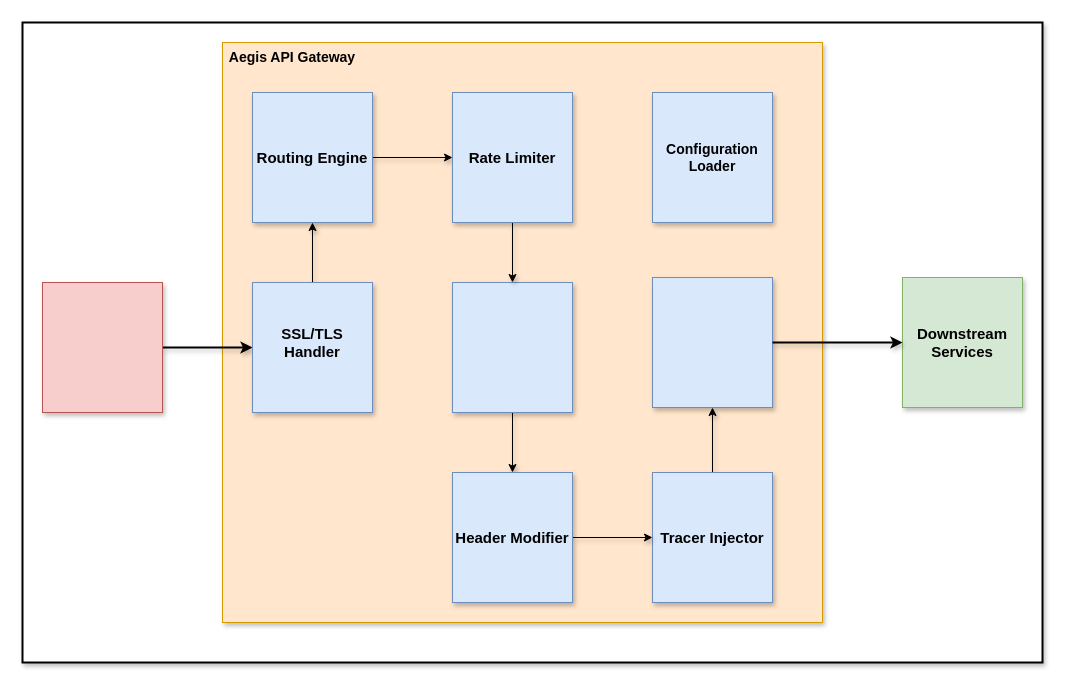
The diagram is 1066 pixels wide and 687 high, and some of its shapes have lost their labels. The centre of each missing label's shape, as x and y in pixels:
Cache Manager: [513,349]
Client: [103,349]
Request Dispatcher: [713,343]
